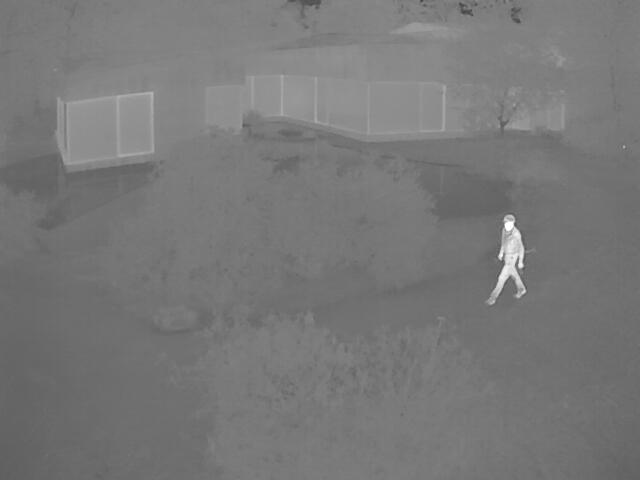person: (485, 213, 527, 306)
